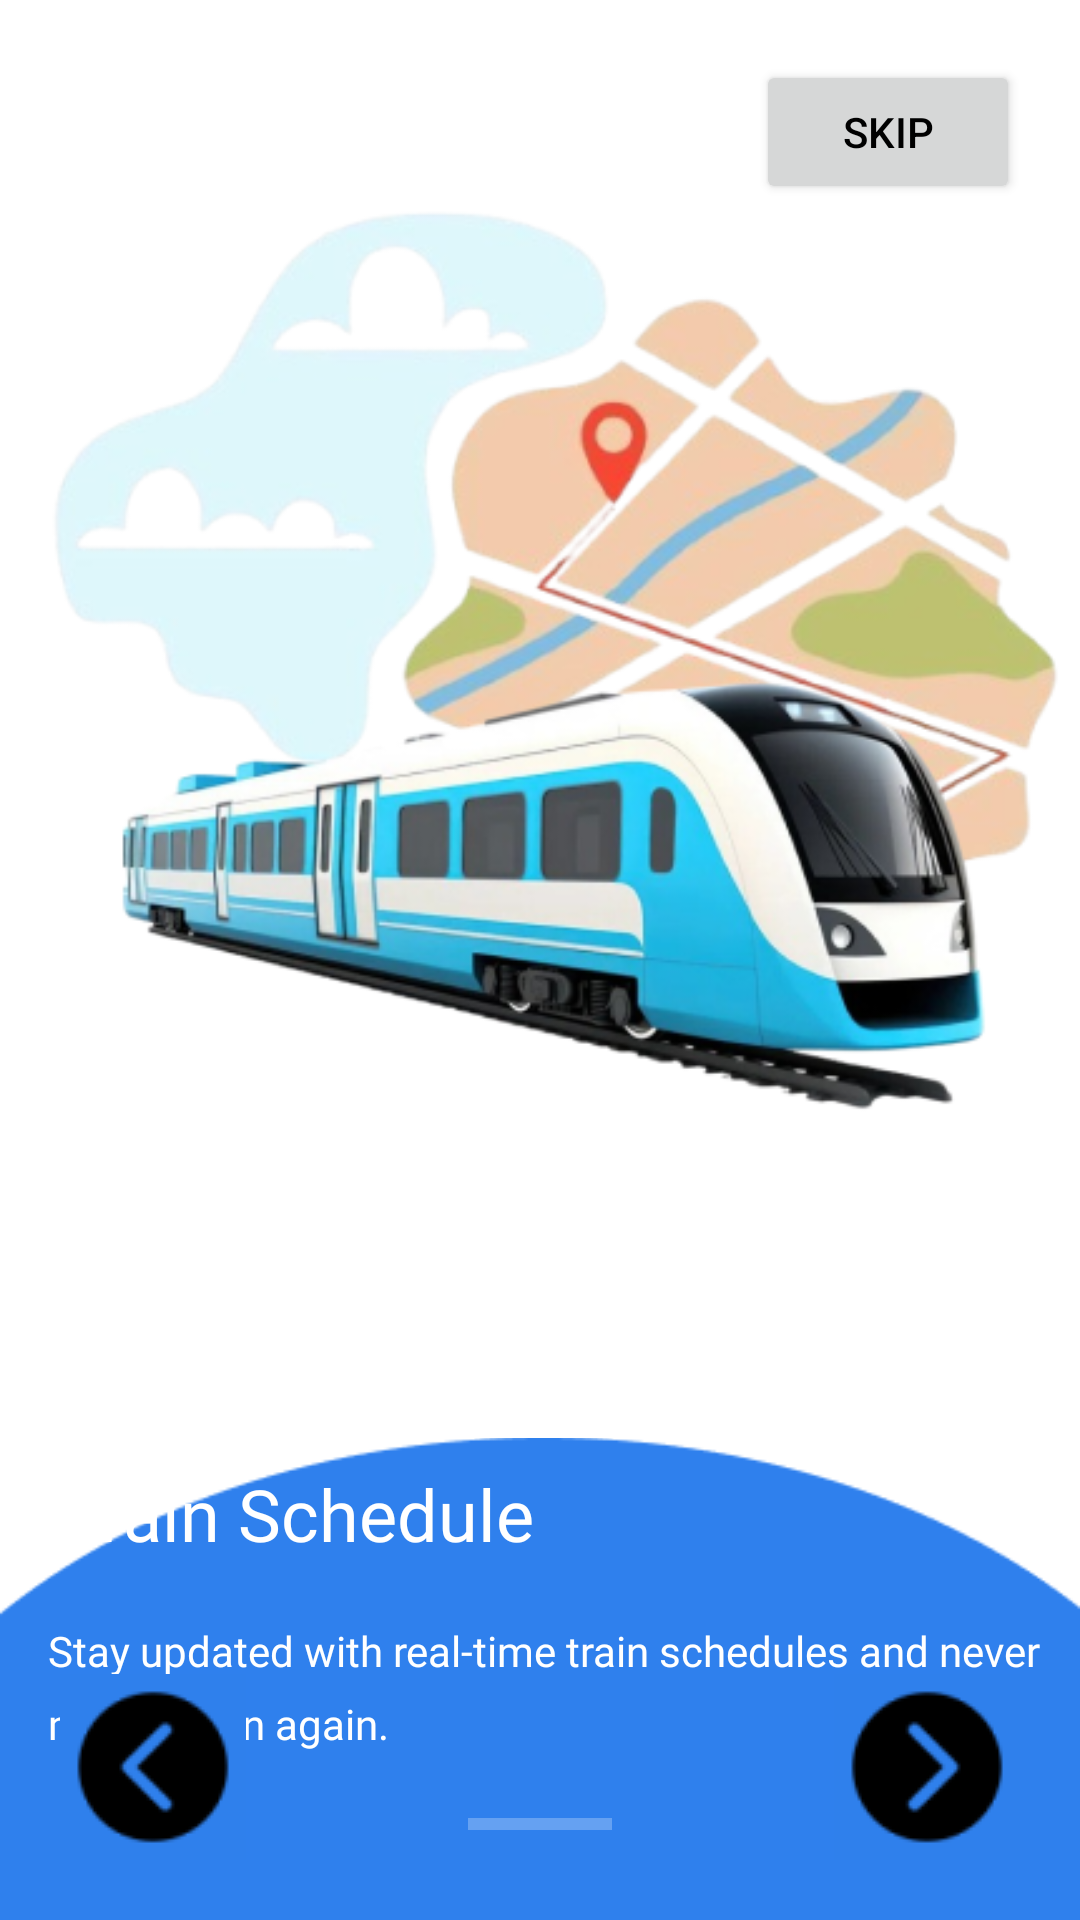

Screen size 1080px x 1920px. Icon name, then its center in pixels as point (x, y):
next: point (927, 1767)
previous: point (153, 1767)
